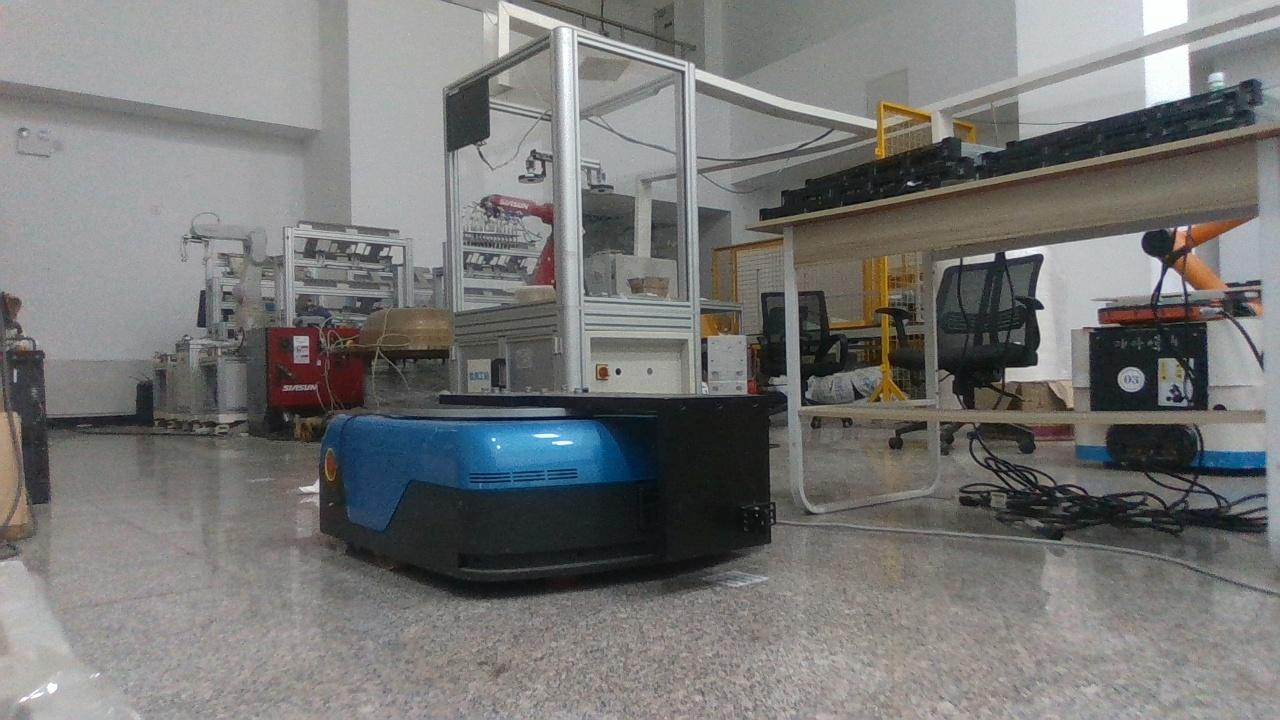AGV: (320, 395, 778, 579)
